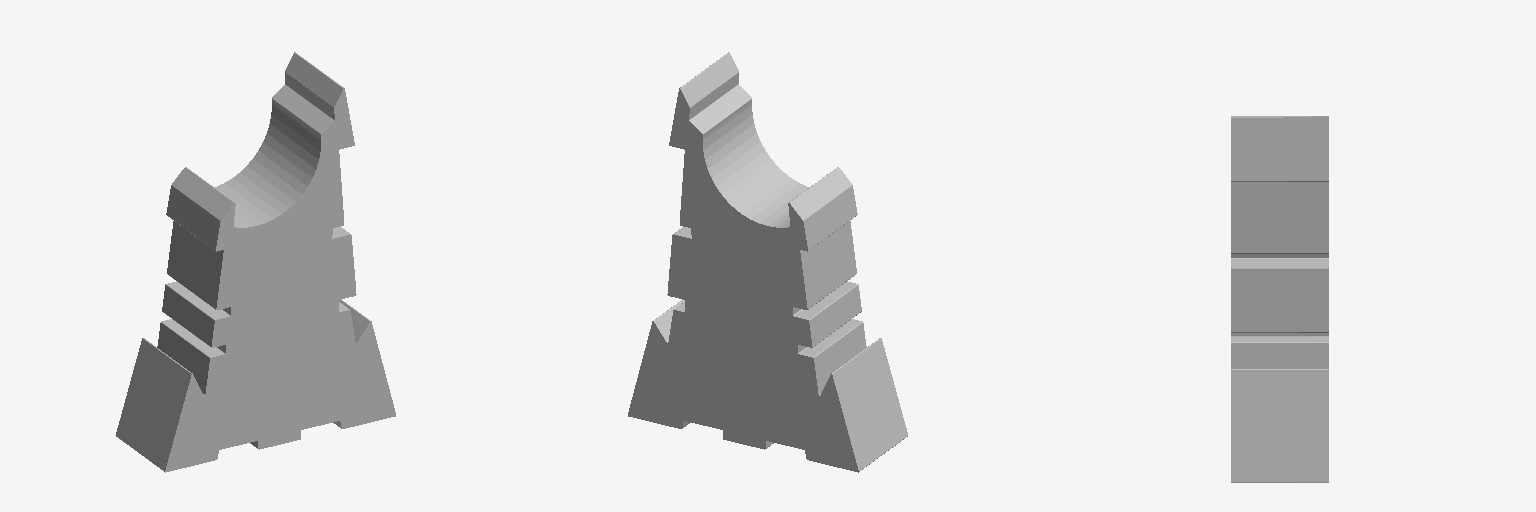
Rendered from flagship.obj.
3 renders of one model, left to right at view 1: azimuth 30°, elevation 25°; view 2: azimuth 150°, elevation 25°; view 3: azimuth 270°, elevation 25°, orthographic.
Parts seen in each view (by area): view 1: Curve.001_Curve.003; view 2: Curve.001_Curve.003; view 3: Curve.001_Curve.003.
Part boxes in pixels (bbox=[...]): Curve.001_Curve.003: bbox=[116, 52, 395, 472]; Curve.001_Curve.003: bbox=[628, 52, 907, 472]; Curve.001_Curve.003: bbox=[1231, 116, 1328, 482].
Size of the model in its own units: 2.7 by 3.8 by 1.